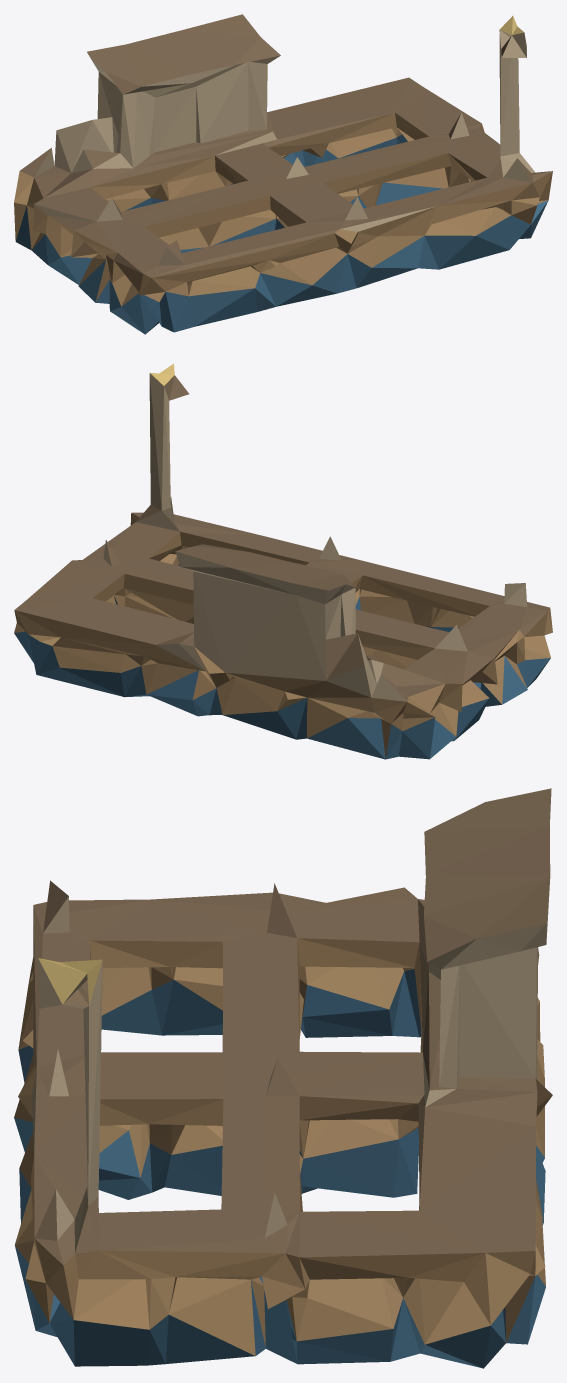
The model's file is lobster_raft.glb.
The picture shows the model from 3 angles, top to bottom: view 1: azimuth 30°, elevation 25°; view 2: azimuth 150°, elevation 25°; view 3: azimuth 270°, elevation 25°; orthographic projection. The views are drawn at different scales.
Parts seen in each view (by area): view 1: lobster_raft; view 2: lobster_raft; view 3: lobster_raft.
Boxes of the visible parts, x1,y1,x2,y2 form: lobster_raft: (14, 14, 552, 334); lobster_raft: (14, 363, 552, 759); lobster_raft: (14, 788, 552, 1368).
Size of the model in its own units: 5 by 2.5 by 3.
